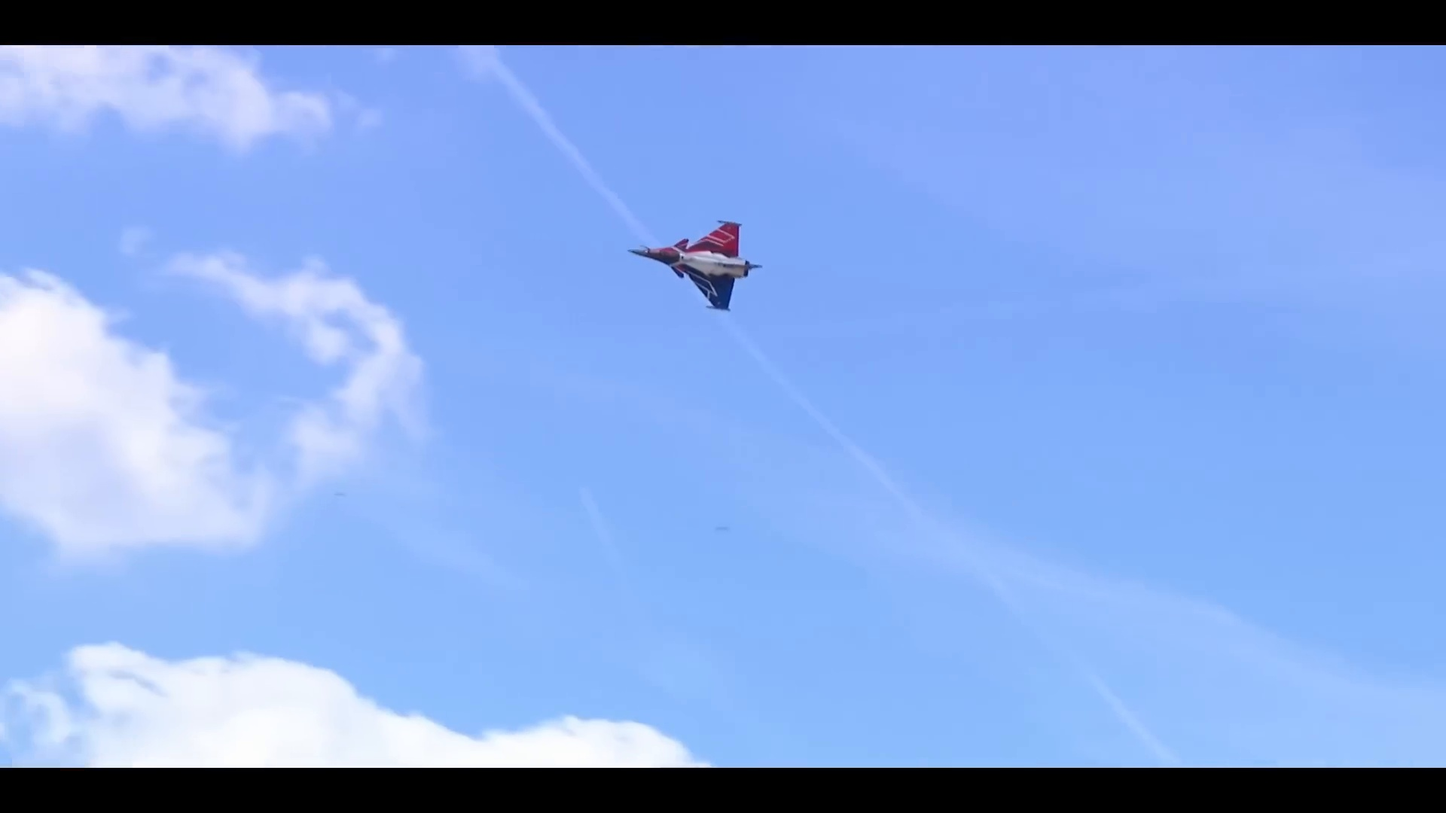Rafale: (625, 216, 766, 314)
